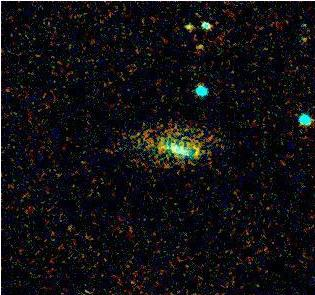star: (183, 34, 213, 64)
